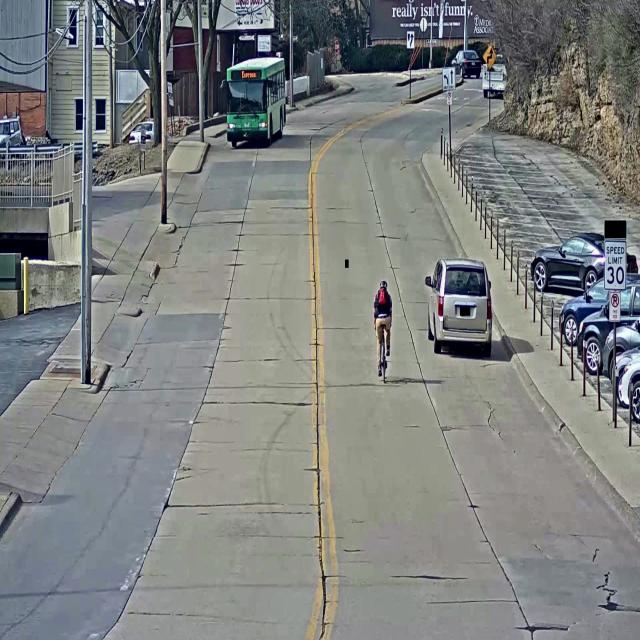bicycle: (375, 324, 390, 384)
car: (425, 258, 493, 358), (530, 232, 638, 293), (577, 279, 640, 375), (559, 272, 640, 346), (226, 57, 286, 148), (603, 317, 640, 385), (611, 346, 640, 409), (621, 358, 640, 423), (482, 54, 508, 100), (0, 120, 27, 158), (449, 50, 482, 79), (130, 122, 154, 145)
person: (373, 280, 392, 376)
